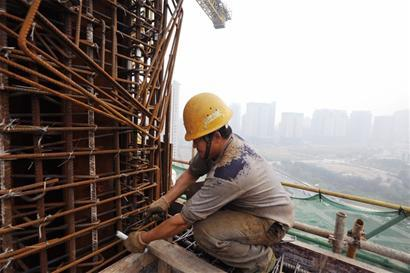helmet: (183, 93, 233, 143)
